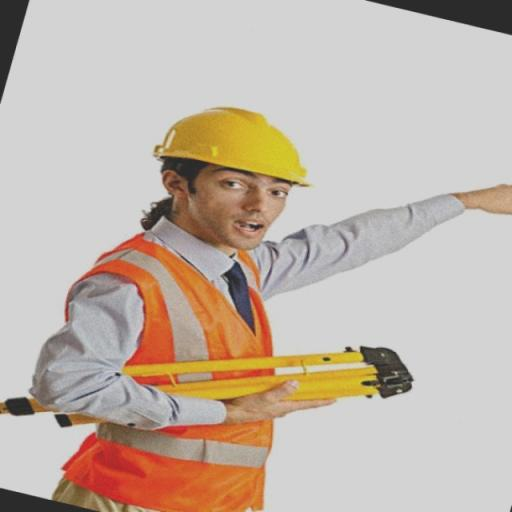Person: (50, 85, 484, 512)
helmet: (136, 92, 323, 194)
vest: (67, 219, 308, 511)
